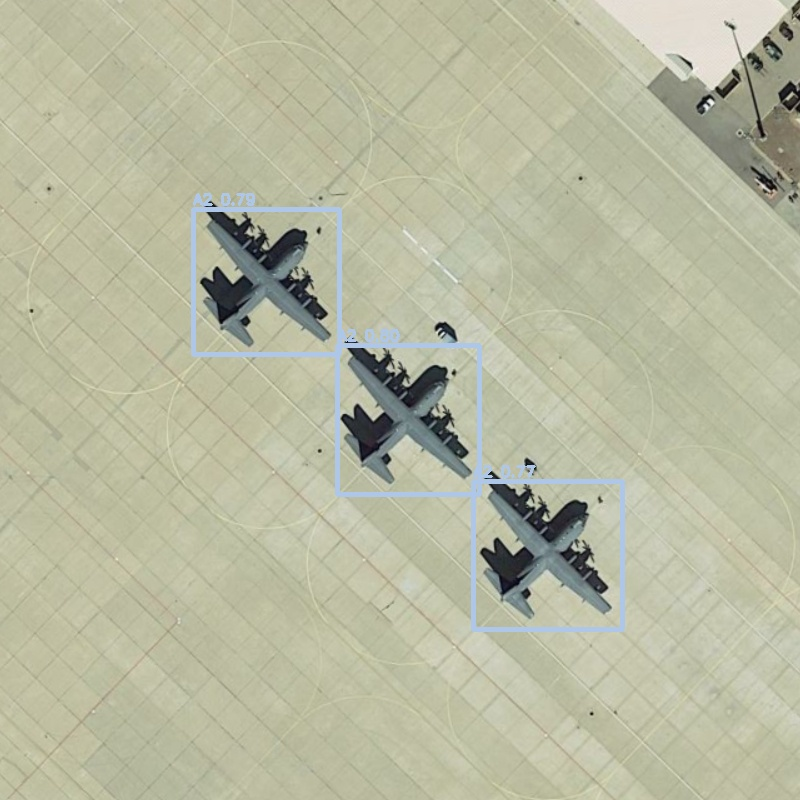A2: (473, 481, 622, 629), (193, 209, 339, 354), (337, 345, 479, 494)
